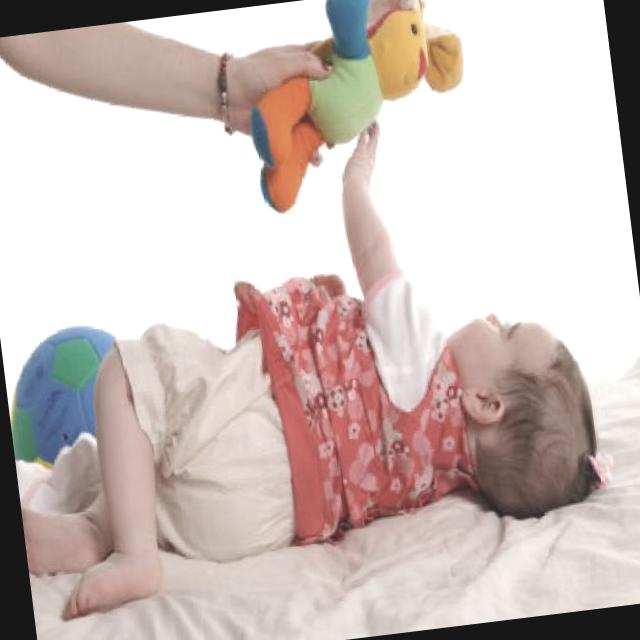Person: (0, 90, 614, 624), (0, 0, 353, 205)
